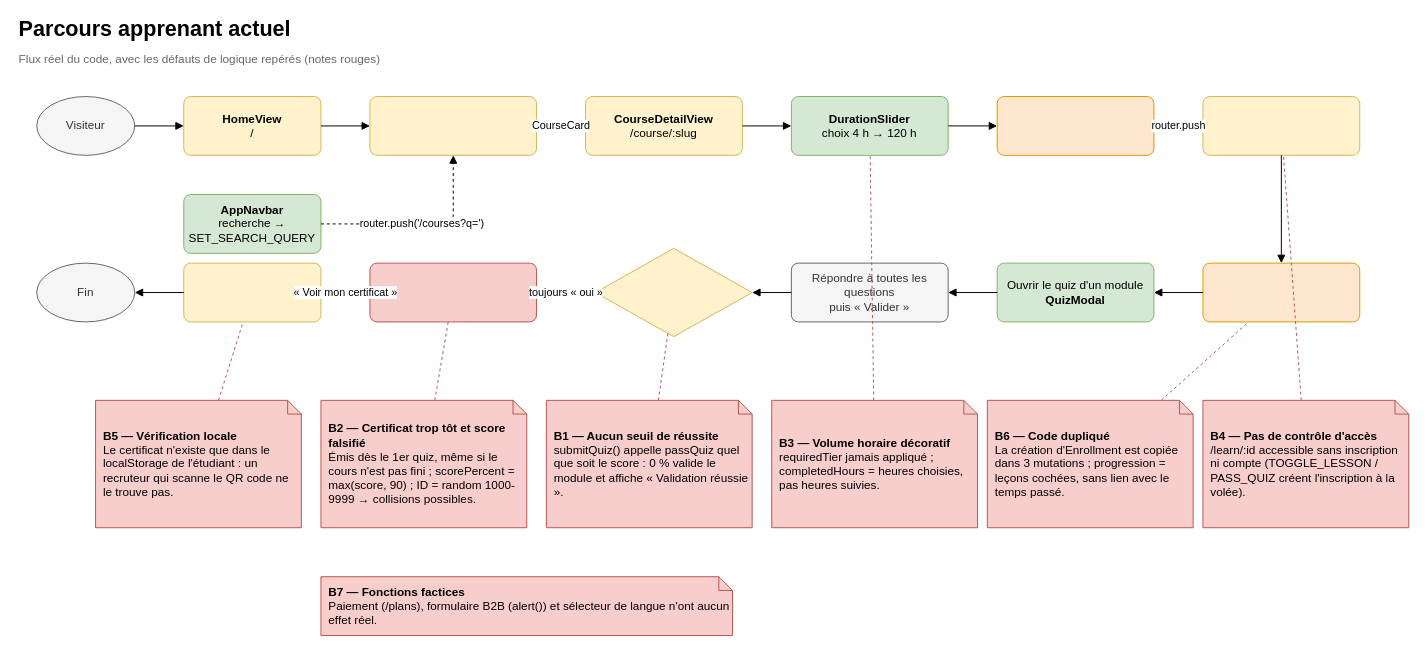
Some shapes in this 1426 by 653 pixel diagram are drawn without their labels. Here are the shapes that lost their labels. From the top down, the centre of each, then its label:
(x=453, y=125): CoursesView recherche, catégorie, niveau, tri
(x=1075, y=125): Clic « S'inscrire » dispatch('enroll')
(x=1281, y=125): LearnPlayerView /learn/:courseId
(x=252, y=292): CertificateView /verify/:id
(x=453, y=292): PASS_QUIZ quiz marqué validé + certificat créé
(x=673, y=292): Score ≥ seuil ? (test absent)
(x=1281, y=292): Cocher une leçon dispatch('toggleLesson')
